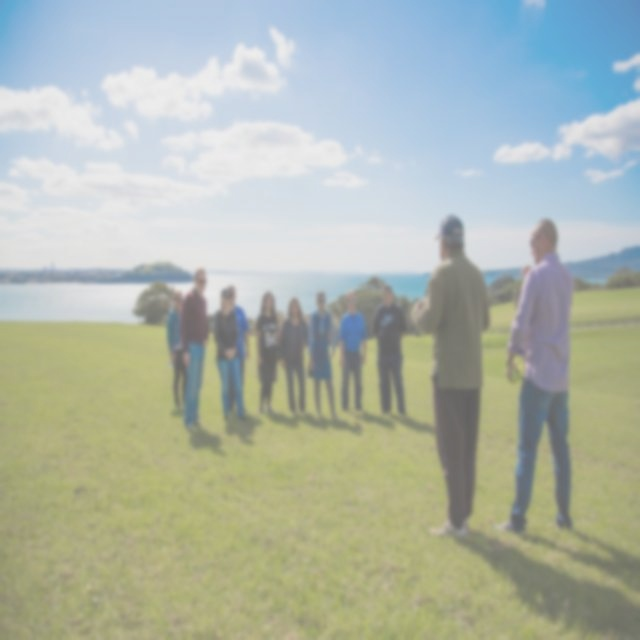pessoa: (410, 212, 491, 540), (494, 216, 576, 538), (371, 282, 409, 420), (179, 267, 209, 432), (212, 288, 248, 425), (307, 290, 338, 423), (277, 297, 311, 416), (338, 289, 368, 413), (226, 286, 250, 414), (256, 291, 280, 416), (166, 290, 188, 410)
